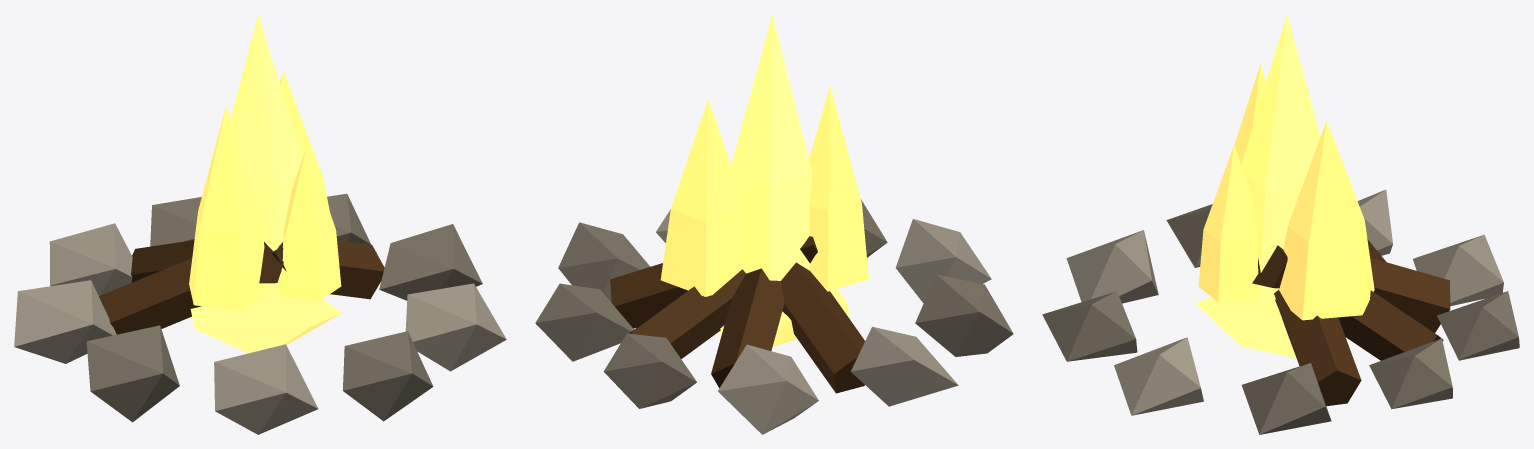
File: campfire.glb
The picture shows the model from 3 angles, left to right: view 1: azimuth 30°, elevation 25°; view 2: azimuth 150°, elevation 25°; view 3: azimuth 270°, elevation 25°; orthographic projection. The views are drawn at different scales.
Visible parts, largest first — view 1: base, flame_m; view 2: base, flame_m; view 3: base, flame_m.
Boxes of the visible parts, x1,y1,x2,y2 form: base: (14,193,506,434); flame_m: (189,14,341,311); base: (535,199,1013,434); flame_m: (660,14,868,296); base: (1042,189,1519,434); flame_m: (1198,14,1374,320).
Size of the model in its own units: 0.3785 by 0.2827 by 0.361.
